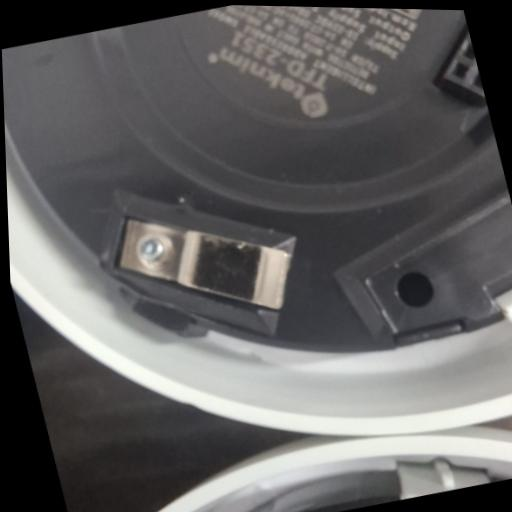yaysiz: (104, 185, 311, 341)
